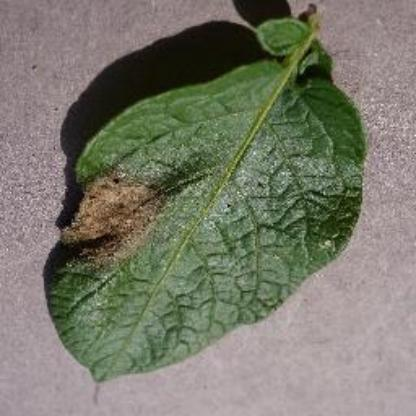Late-Blight: (49, 12, 374, 386)
